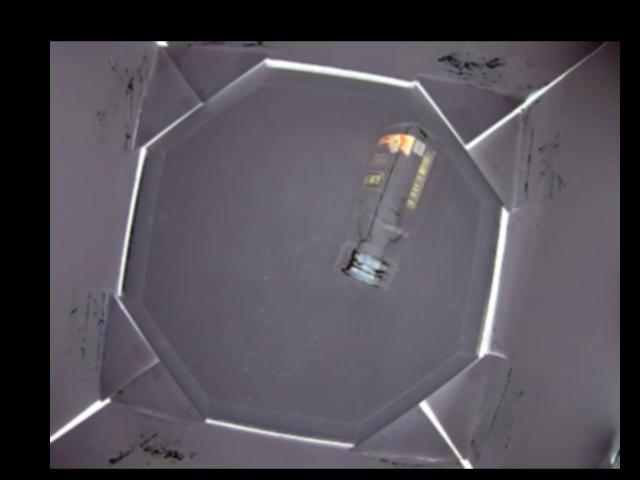Bottle: (334, 124, 447, 287)
